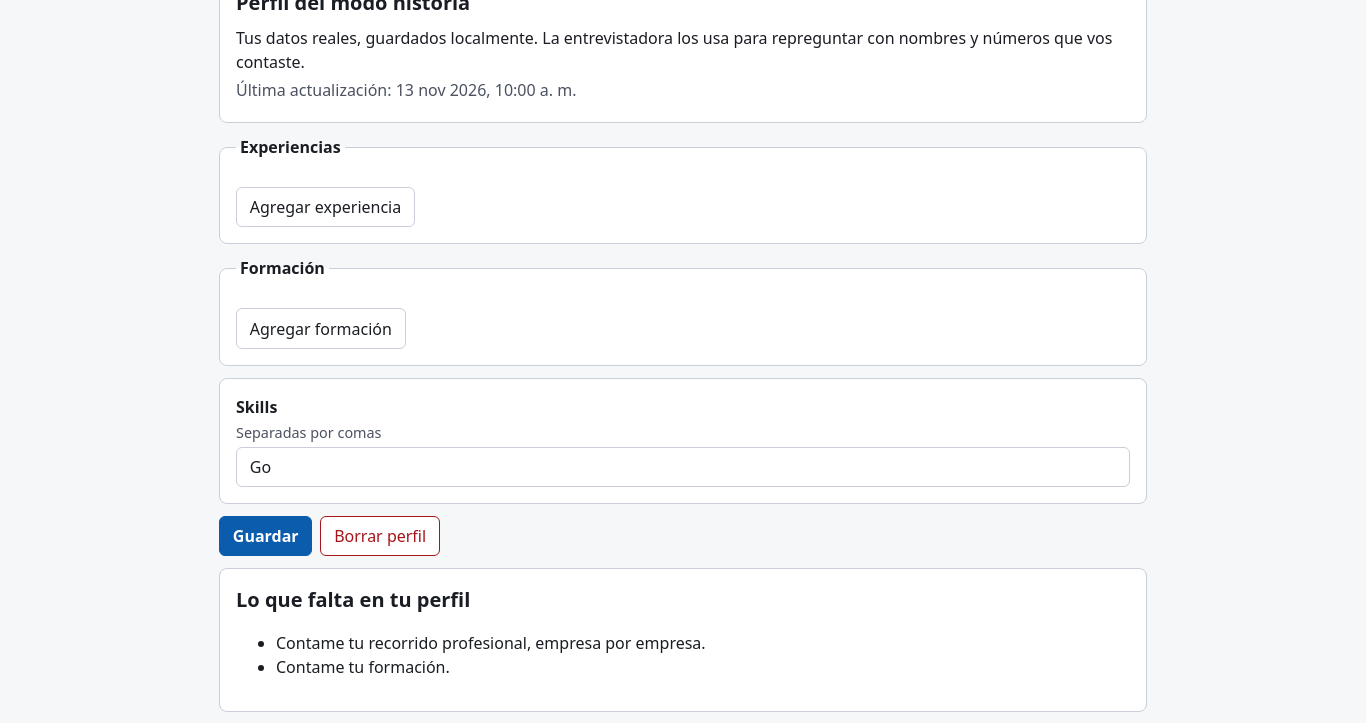
ProfilePage › valida y enfoca el primer campo inválido; guarda normalizado con If-Match; muestra huecos
expect the number of list items is 2: met, box [276,632,706,654]; [276,656,450,678]
Click the button "Agregar experiencia".
click(326, 207)  # box [236,187,415,227]
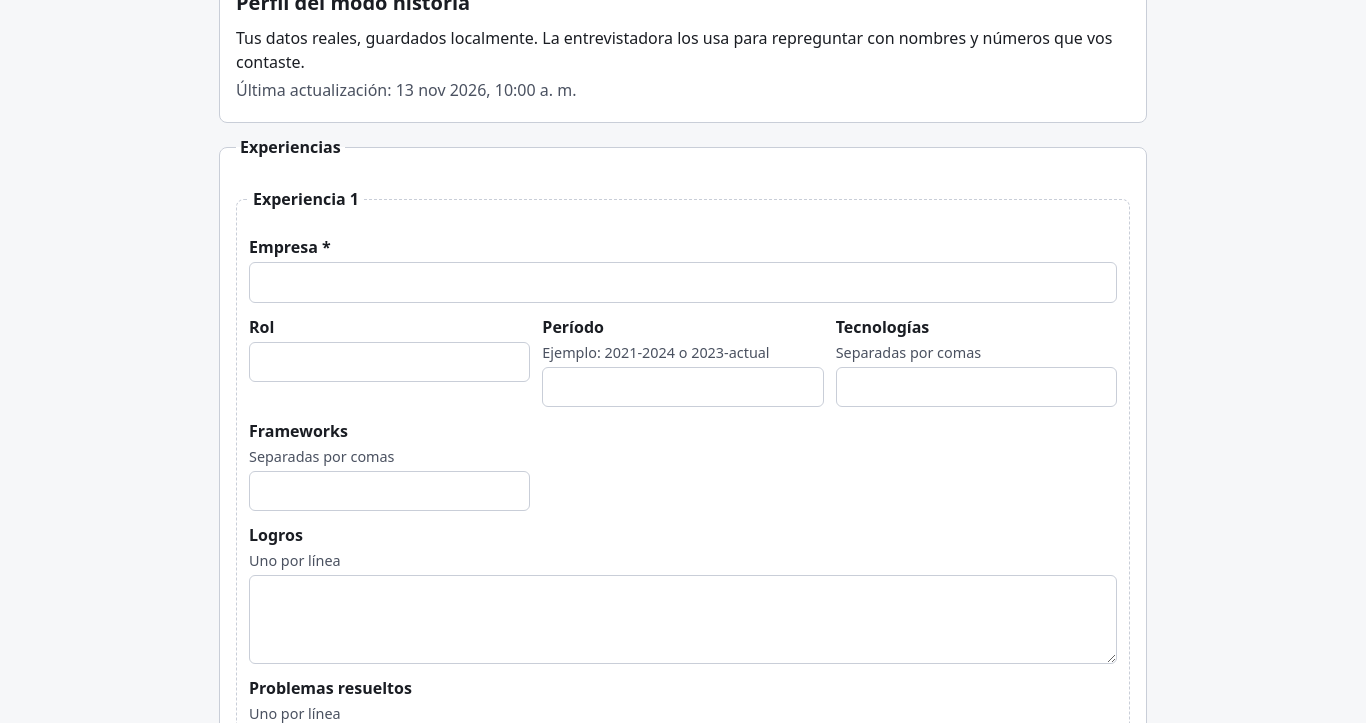
Type "2020" into the field labelled "Período".
click(683, 387); type("2020")  # box [542,366,824,407]
(page scrolled)
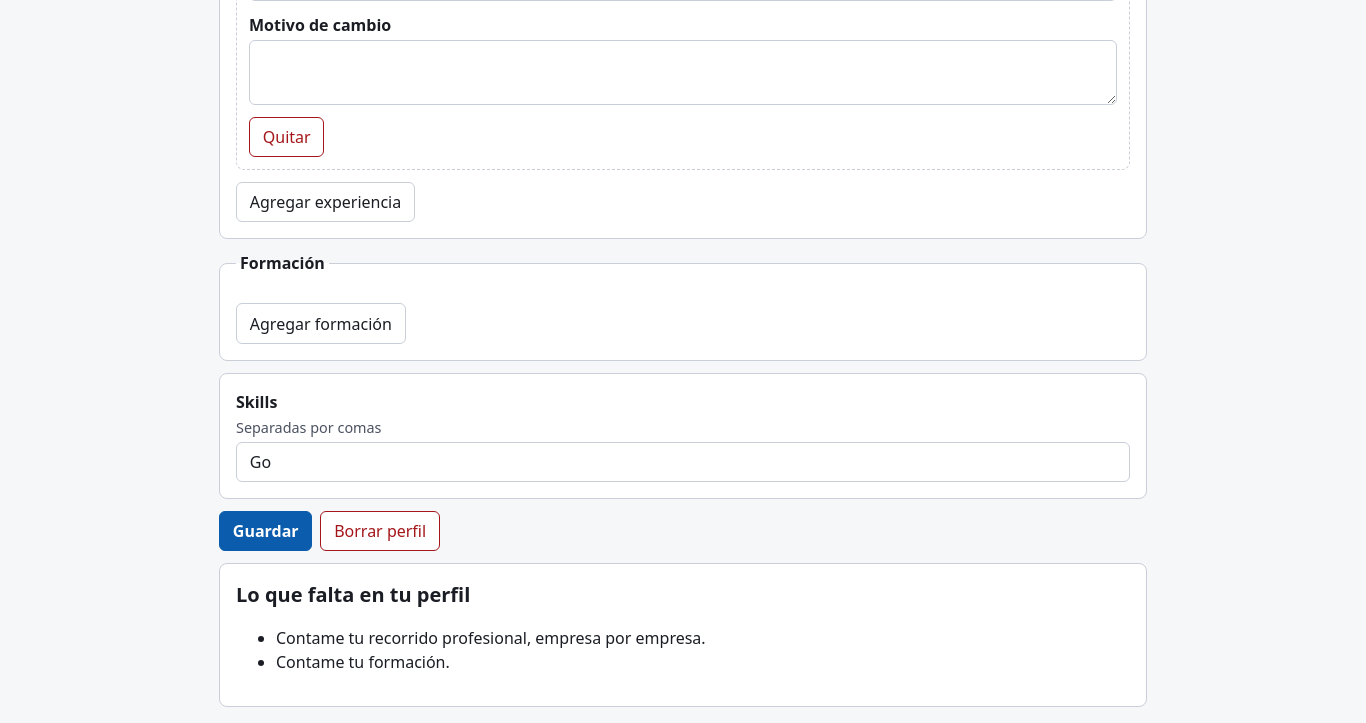
Click the button "Guardar".
click(266, 531)  # box [219,511,312,551]
(page scrolled)
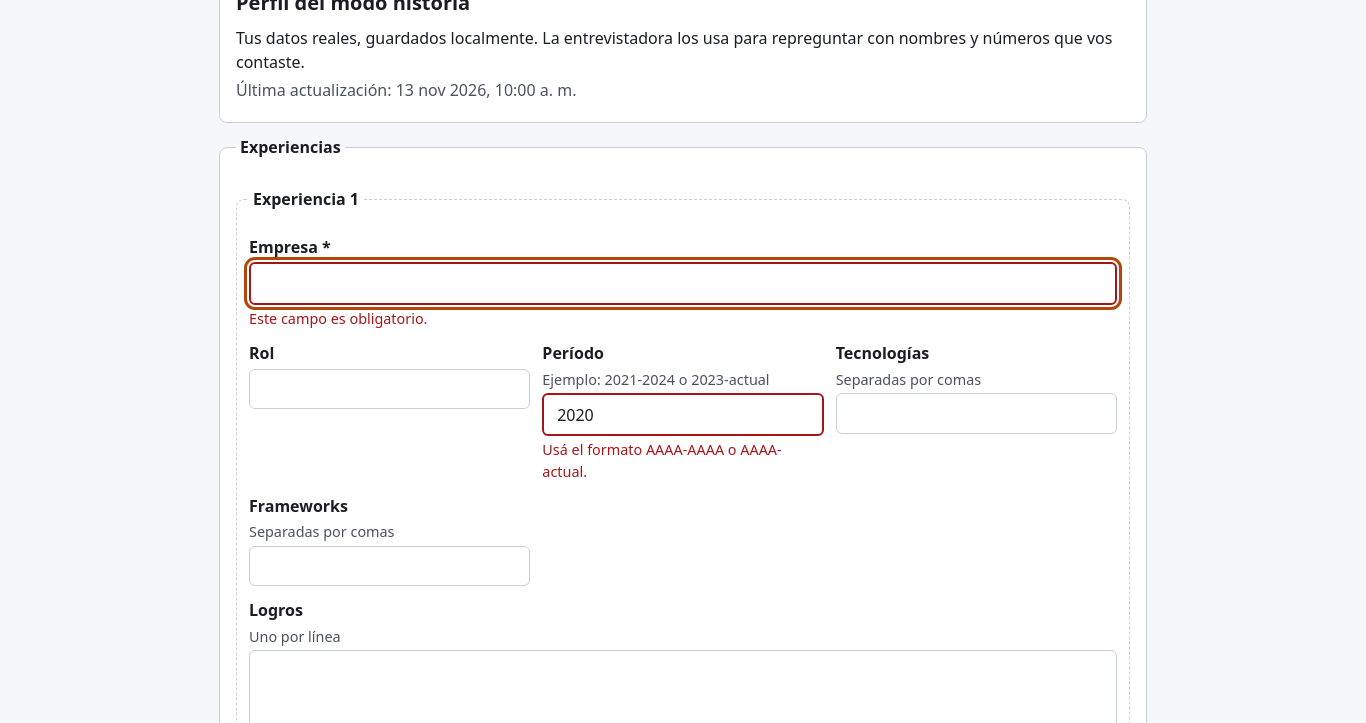
Type " Acme " into the field labelled "Empresa *".
click(683, 283); type(" Acme ")  # box [249,262,1117,305]
Replace the text in the field labelled "Período" with "2020-actual" at (683, 414), box [542,393,824,436]
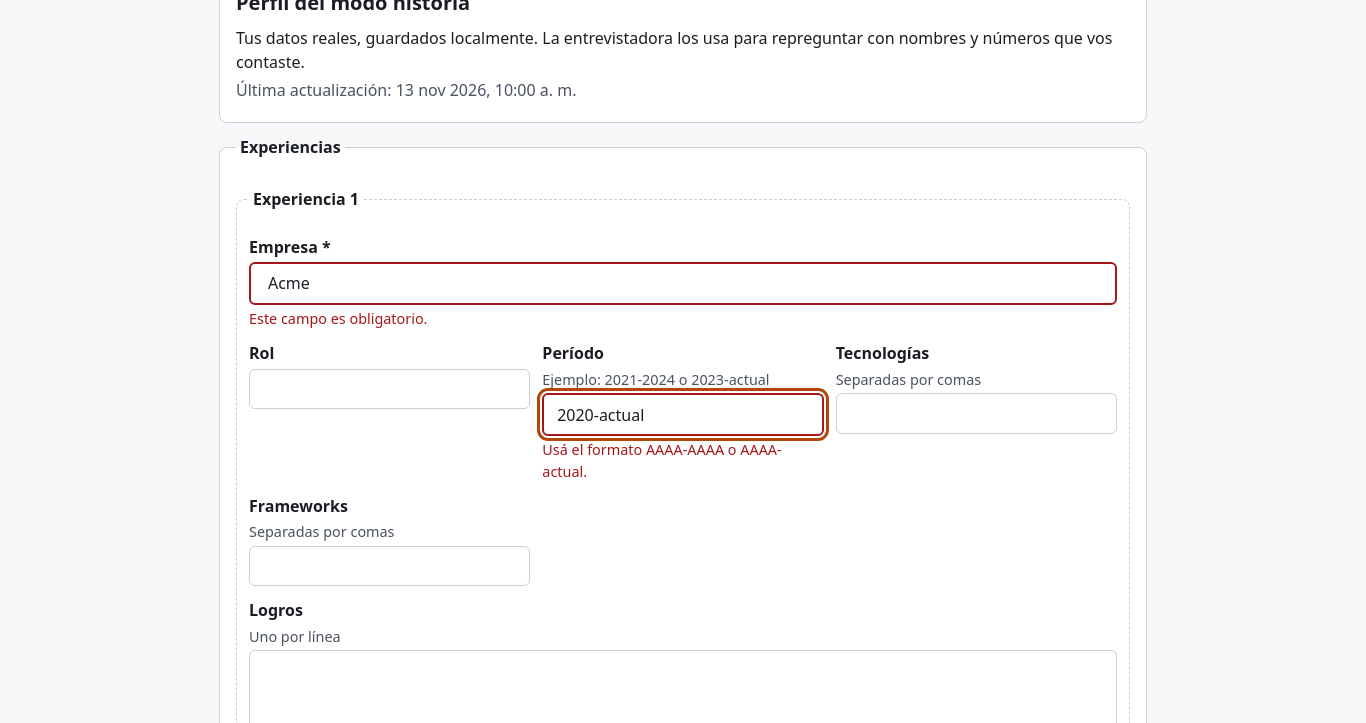
Type "Go, go, React" into the field labelled "Tecnologías".
click(976, 414); type("Go, go, React")  # box [836,393,1117,434]
(page scrolled)
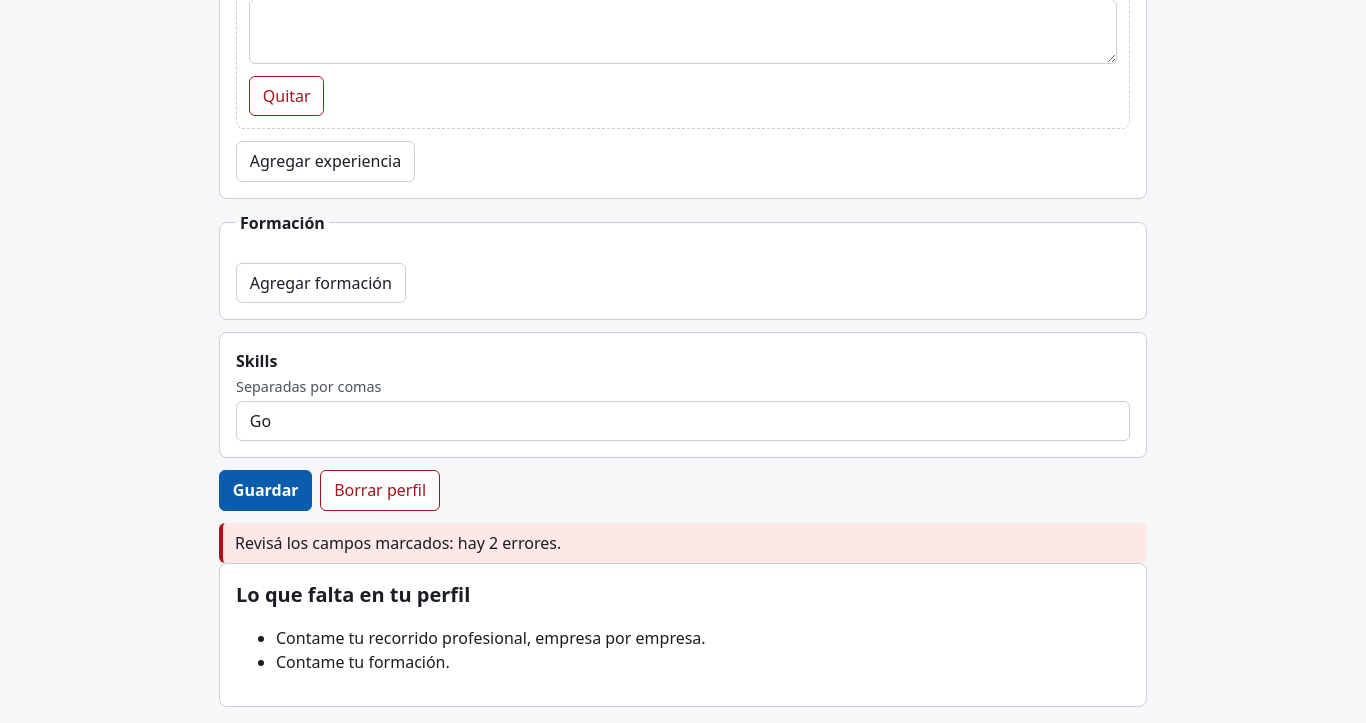
Click the button "Guardar".
click(266, 490)  # box [219,470,312,511]
(page scrolled)
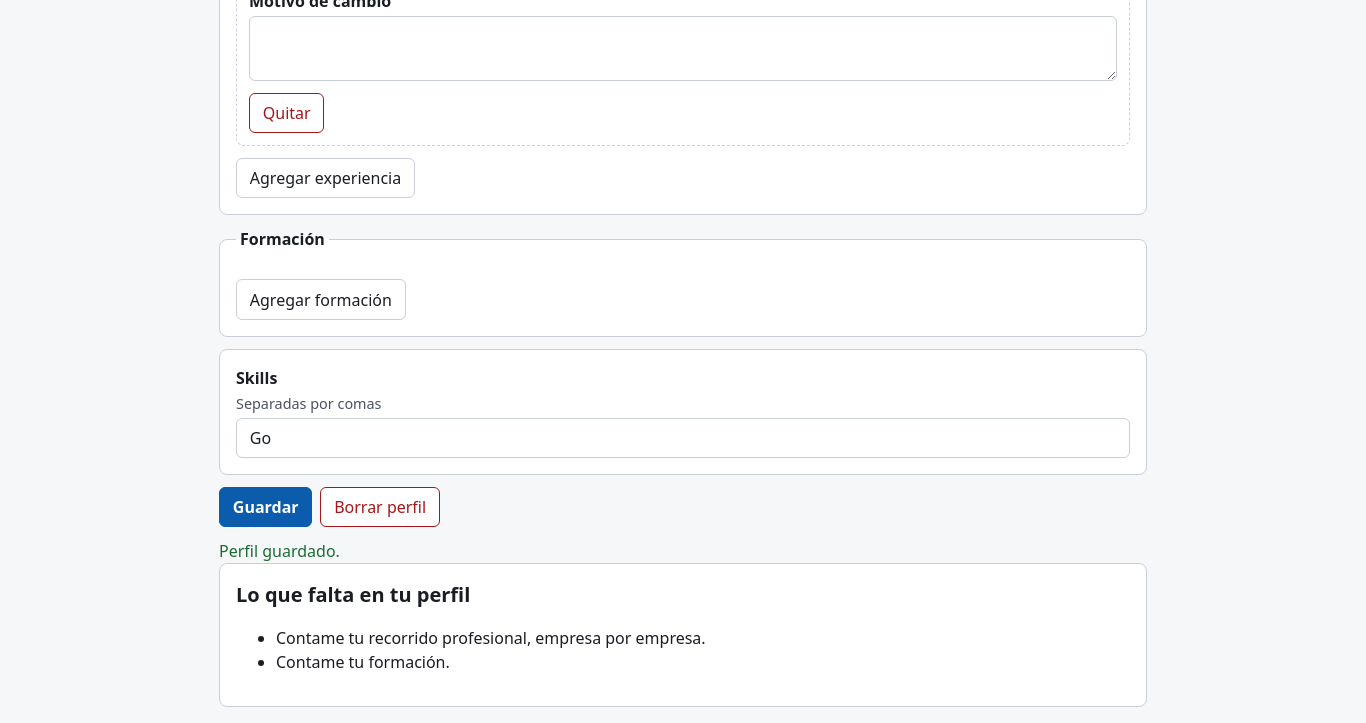
expect the message with test id "profile-msg" reads "Perfil guardado.": met, box [219,540,340,562]
